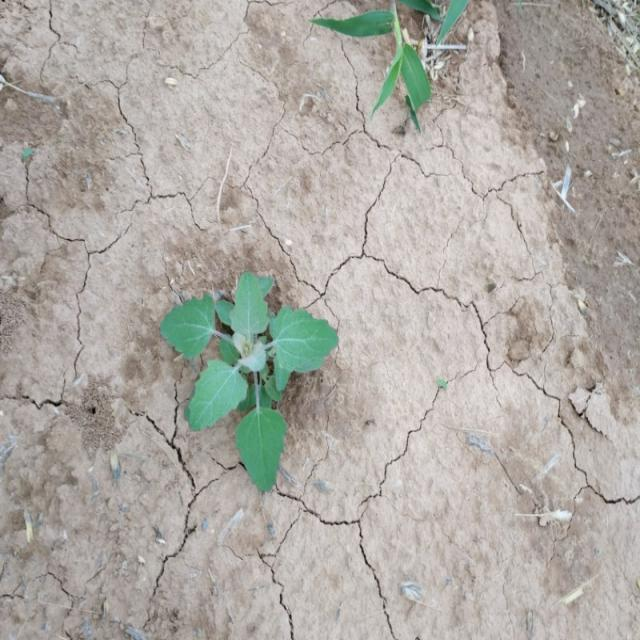goosefoots: (153, 274, 332, 511)
